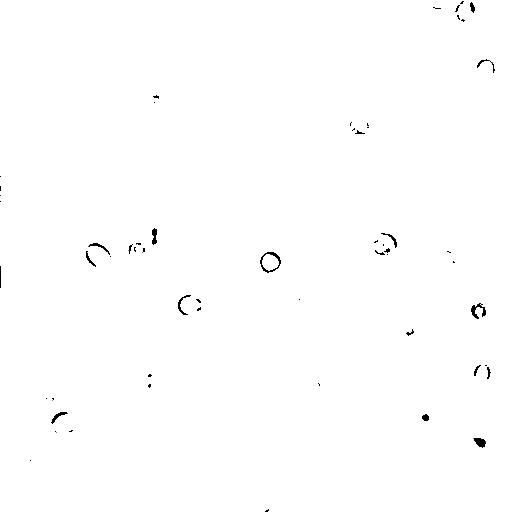micro-algae: (139, 445, 199, 506), (21, 301, 70, 356), (139, 216, 180, 259), (414, 30, 455, 65), (286, 286, 325, 318), (462, 426, 499, 457), (31, 386, 63, 421), (82, 240, 113, 271), (162, 363, 192, 392), (135, 366, 164, 394), (49, 410, 80, 436), (472, 57, 499, 86), (371, 230, 399, 257), (8, 456, 41, 478), (176, 293, 205, 318), (258, 250, 283, 276), (1, 259, 22, 289), (434, 248, 458, 272), (454, 1, 479, 23), (411, 406, 436, 428), (314, 371, 340, 392), (393, 316, 417, 338), (472, 362, 493, 386), (351, 113, 370, 138), (158, 0, 184, 18), (127, 241, 147, 263), (470, 300, 488, 321), (425, 1, 451, 11), (262, 503, 285, 512)
